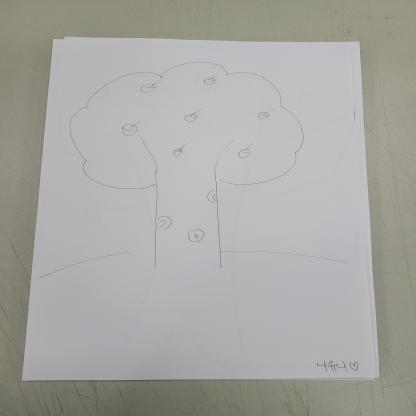apple: (116, 122, 140, 138), (254, 107, 274, 124), (137, 82, 158, 95), (235, 144, 254, 158), (200, 74, 218, 87), (168, 146, 184, 158), (182, 112, 198, 124)
crown_cloud: (66, 58, 305, 191)
knot: (154, 212, 178, 236), (184, 228, 212, 243), (206, 187, 223, 204)
root_none: (118, 242, 249, 277)
trunk_straight: (149, 192, 227, 245)
